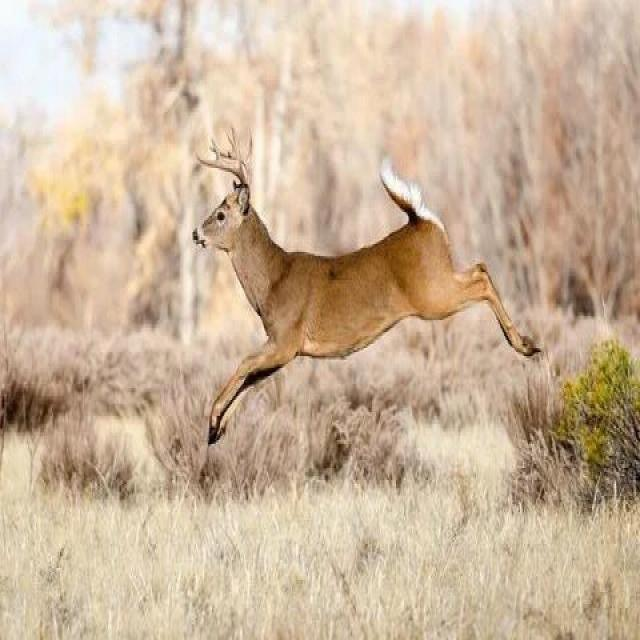deer: (156, 95, 534, 476)
